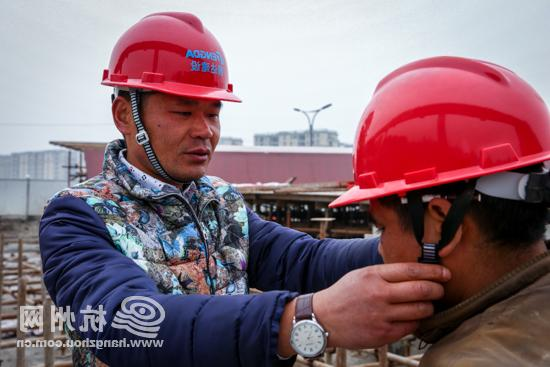helmet: (329, 50, 550, 323), (98, 4, 245, 184)
